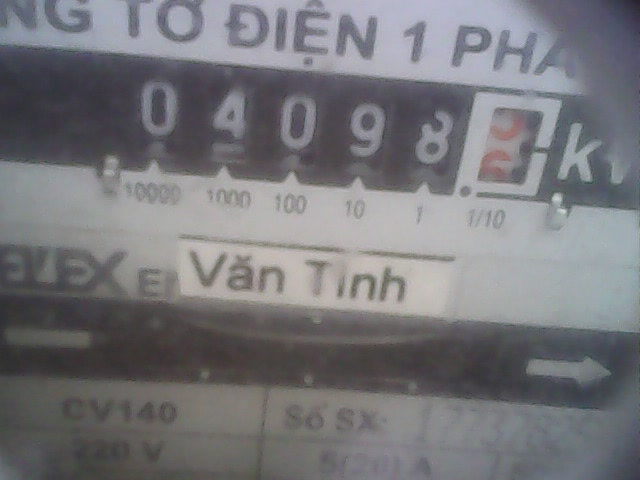phy_plate: (124, 52, 567, 211)
